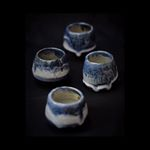cups: (41, 84, 92, 131), (79, 49, 122, 94), (27, 46, 72, 85)
